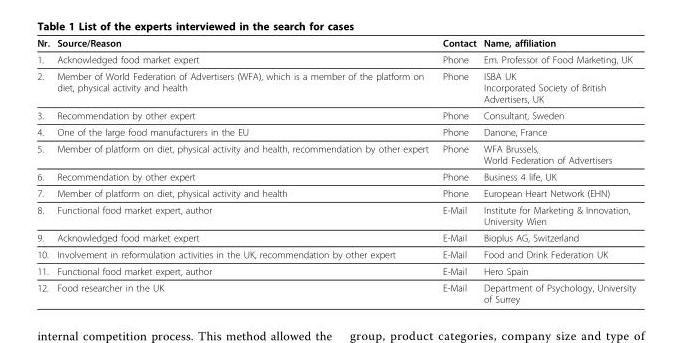table: (36, 36, 635, 304)
table column: (52, 36, 434, 304), (479, 36, 635, 304), (434, 36, 479, 304), (36, 36, 52, 304)
table column header: (36, 36, 635, 50)
table row: (36, 67, 635, 106), (36, 140, 635, 168), (36, 201, 635, 229), (36, 279, 635, 304), (36, 50, 635, 67), (36, 106, 635, 123), (36, 123, 635, 140), (36, 184, 635, 201), (36, 245, 635, 262), (36, 262, 635, 279), (36, 168, 635, 184), (36, 229, 635, 245), (36, 36, 635, 50)
